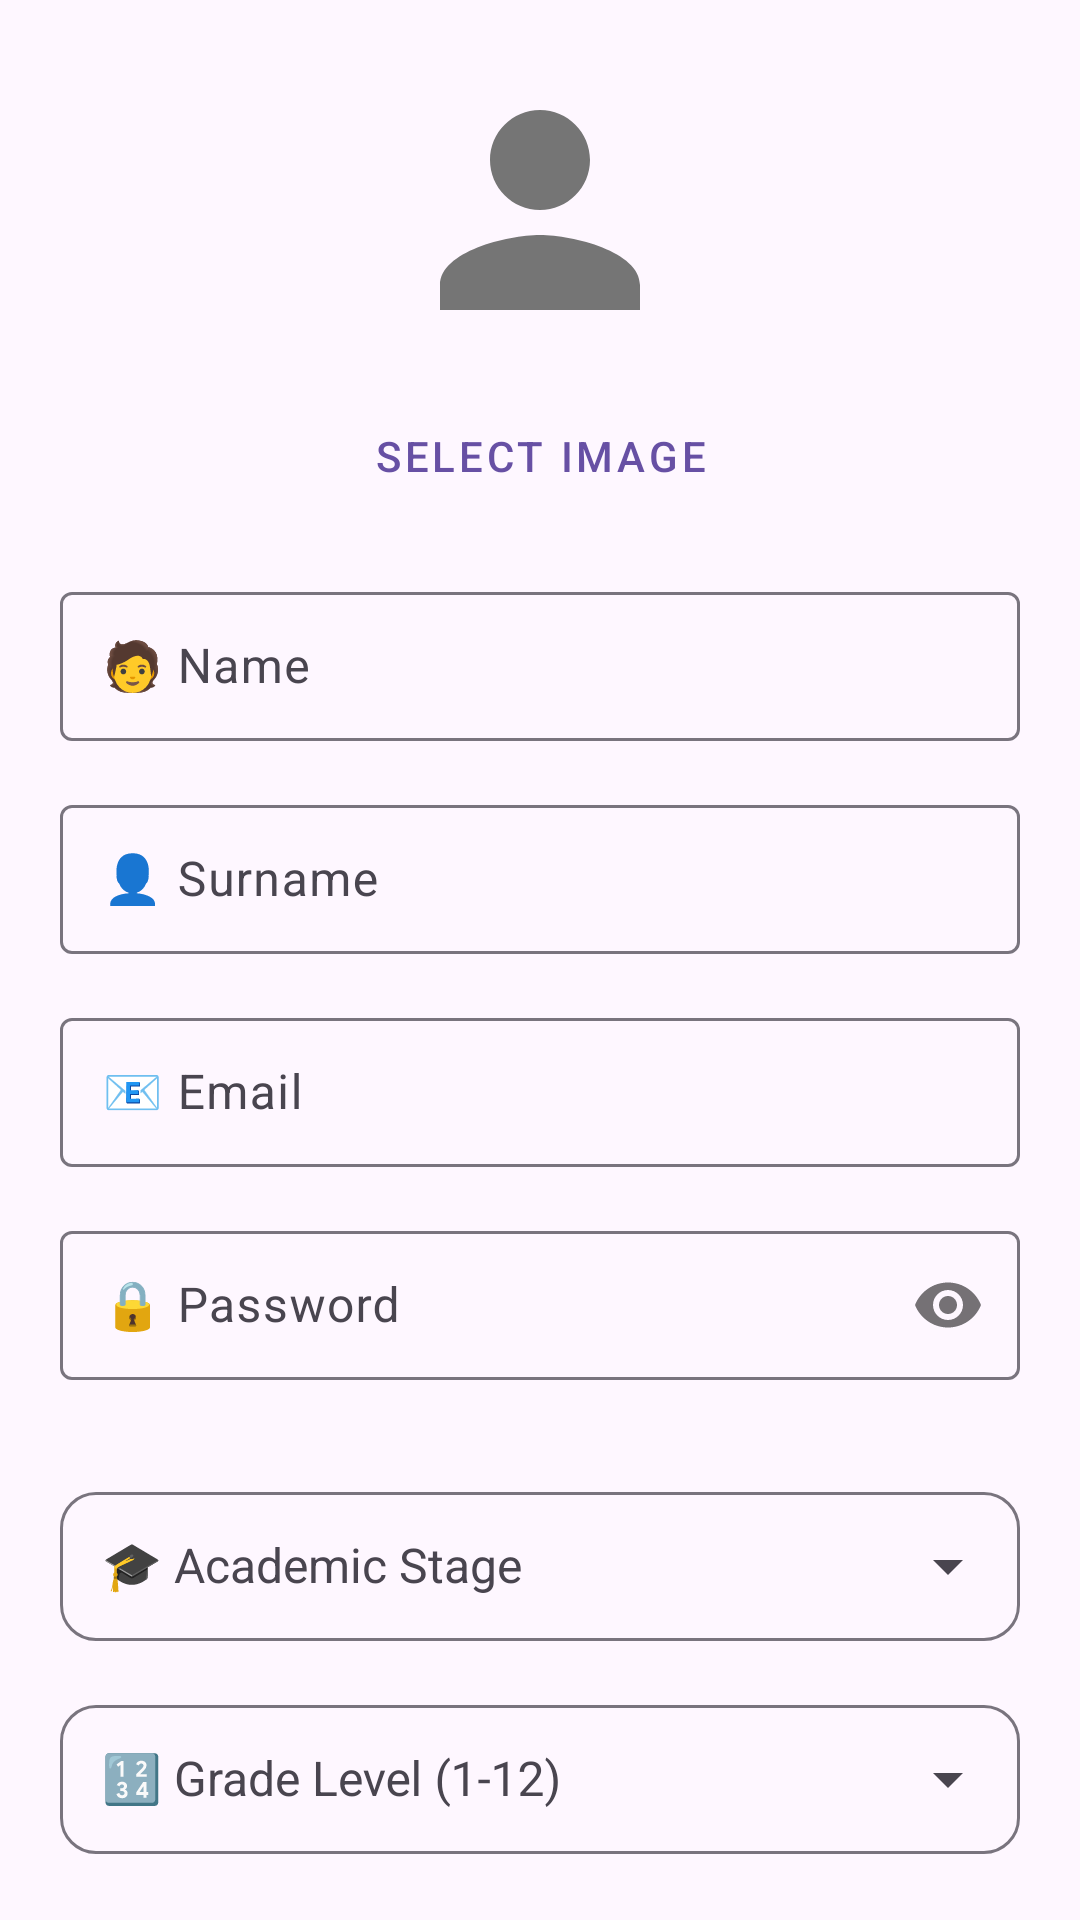

Icon bounding boxes for this 1080 x 1920 phone screenshot, format {"x1": x1, "y1": y1, "x2": x2, "y2": y2}:
Student Profile Image: {"x1": 440, "y1": 110, "x2": 640, "y2": 310}
